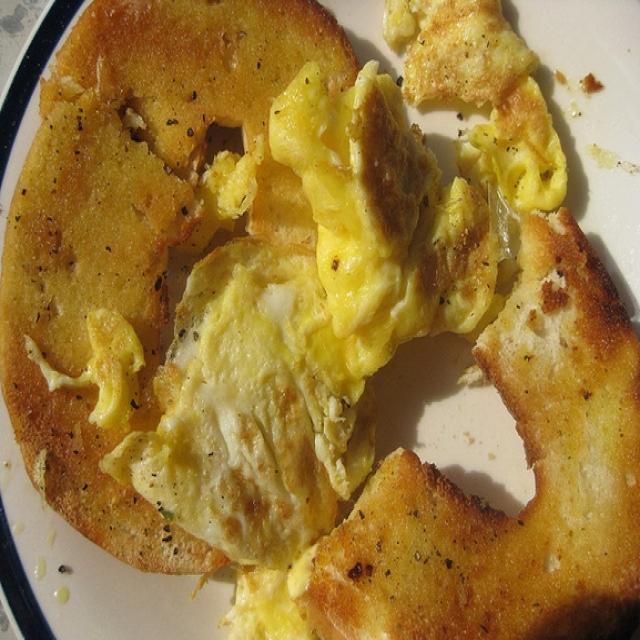鸡蛋料理: (9, 0, 623, 607)
